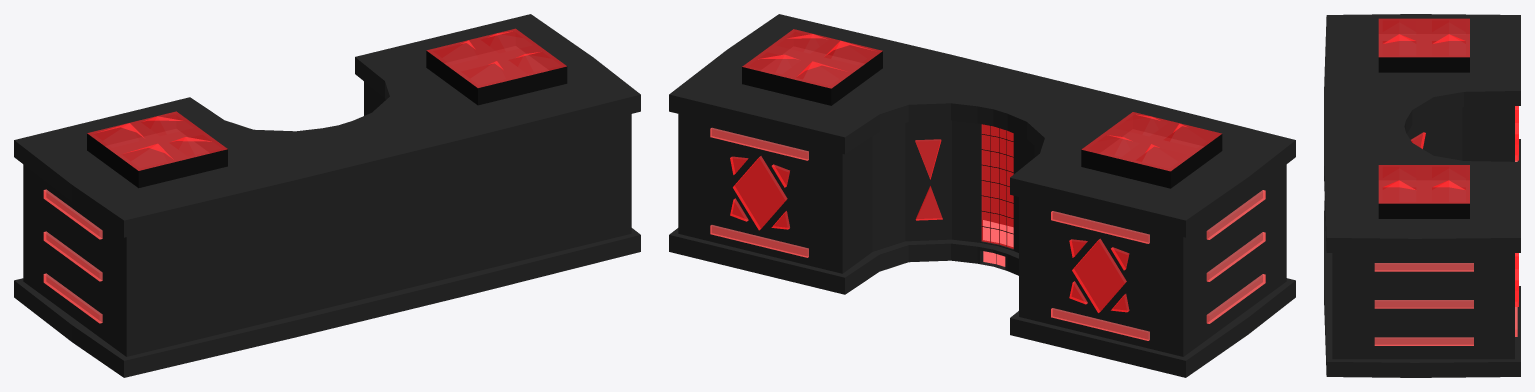
Rendered from enemyBuilding_Geo.fbx.
The picture shows the model from 3 angles, left to right: view 1: azimuth 30°, elevation 25°; view 2: azimuth 150°, elevation 25°; view 3: azimuth 270°, elevation 25°; orthographic projection. The views are drawn at different scales.
Parts seen in each view (by area): view 1: enemyBuilding; view 2: enemyBuilding; view 3: enemyBuilding.
Boxes of the visible parts, x1,y1,x2,y2 form: enemyBuilding: (14, 14, 640, 377); enemyBuilding: (669, 14, 1295, 377); enemyBuilding: (1324, 14, 1520, 377).
Size of the model in its own units: 7465 by 2543 by 2760.
